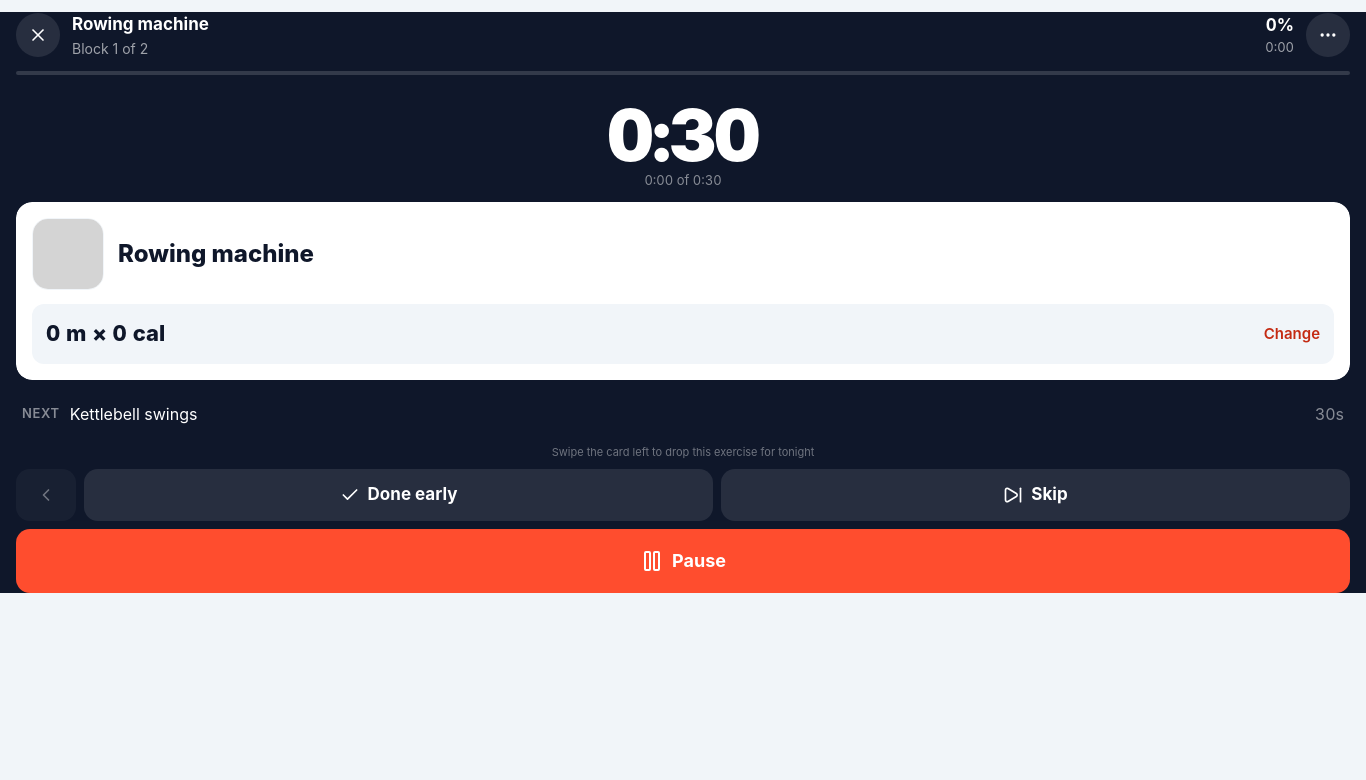
what the card asks to log › a timed rower set to log metres and calories asks for both, nothing else
Click the button with aria-label "0 m × 0 cal. Change": (106, 333) x1=32 y1=304 x2=1334 y2=364
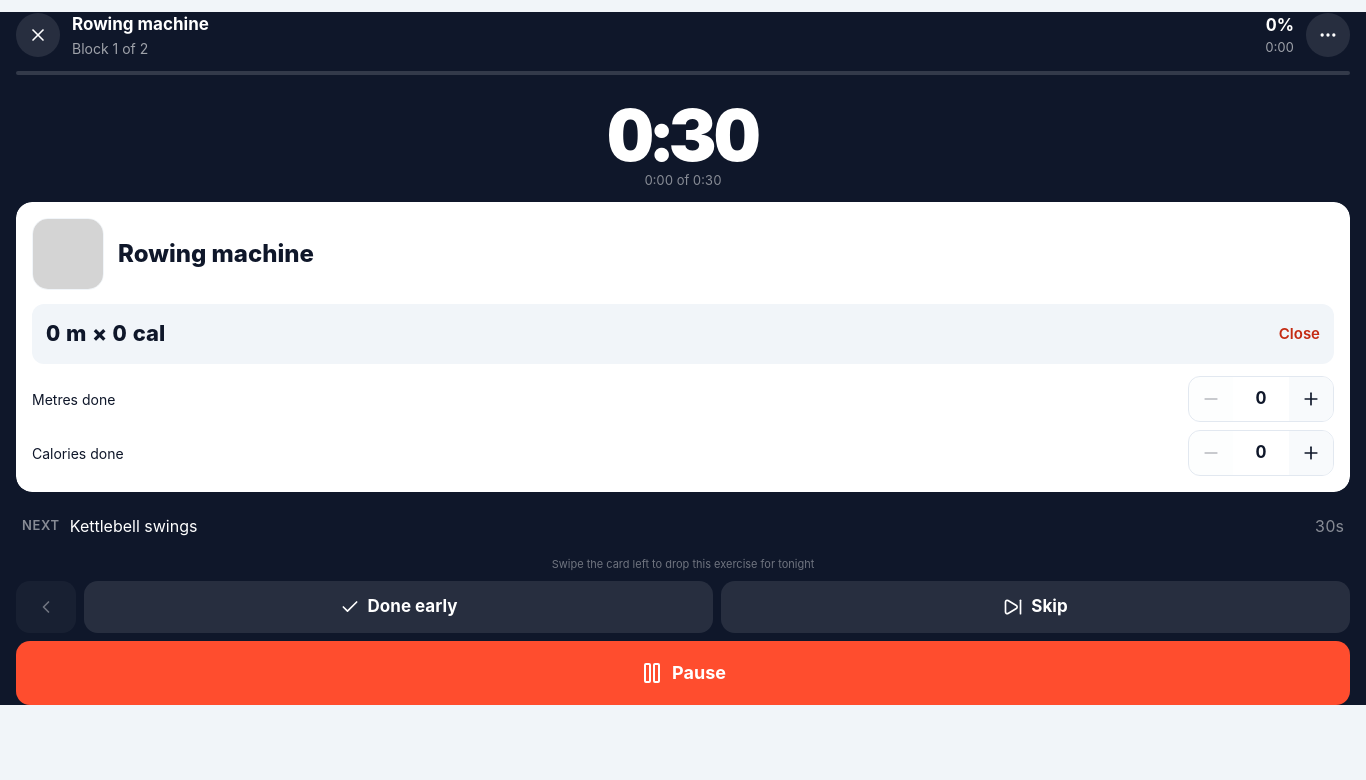
Check: the text "Metres done" is shown, box x1=32 y1=388 x2=115 y2=410
Check: the text "Calories done" is shown, box x1=32 y1=442 x2=124 y2=464
